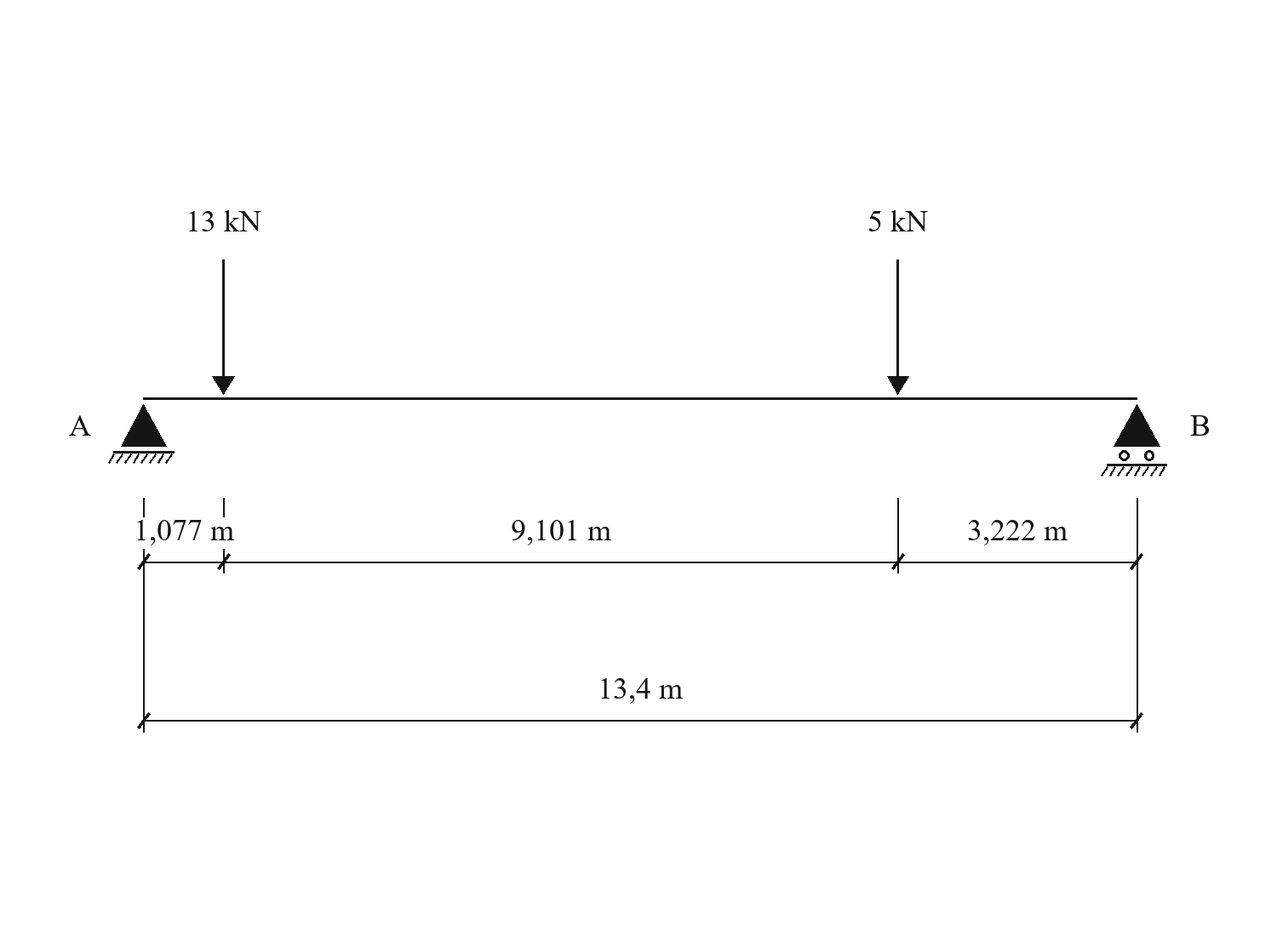pin_support: (108, 404, 175, 464)
point_load: (212, 260, 235, 395), (887, 260, 909, 395)
roller_support: (1101, 404, 1167, 477)
